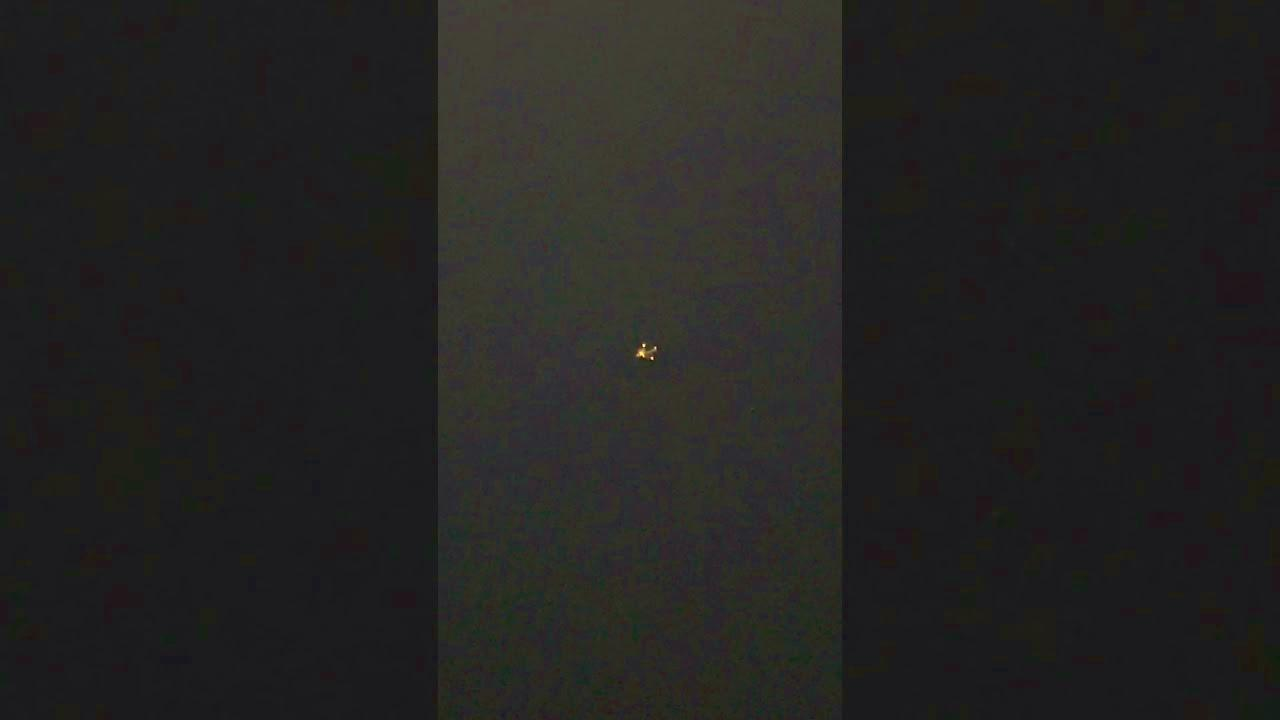Plane: (627, 326, 674, 370)
